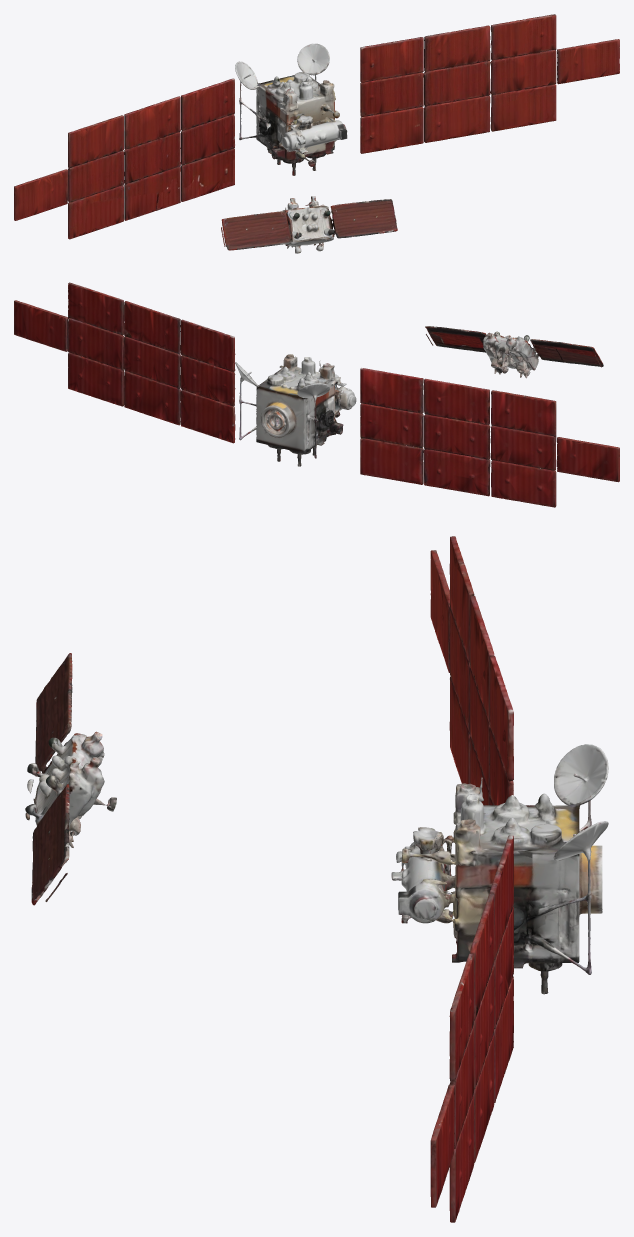
The model's file is lightship1.glb.
The picture shows the model from 3 angles, top to bottom: view 1: azimuth 30°, elevation 25°; view 2: azimuth 150°, elevation 25°; view 3: azimuth 270°, elevation 25°; orthographic projection. The views are drawn at different scales.
Bounding box in the file's own units: 1.9 × 0.3179 × 0.7929.
Materials: 1 (1 with a texture image).
